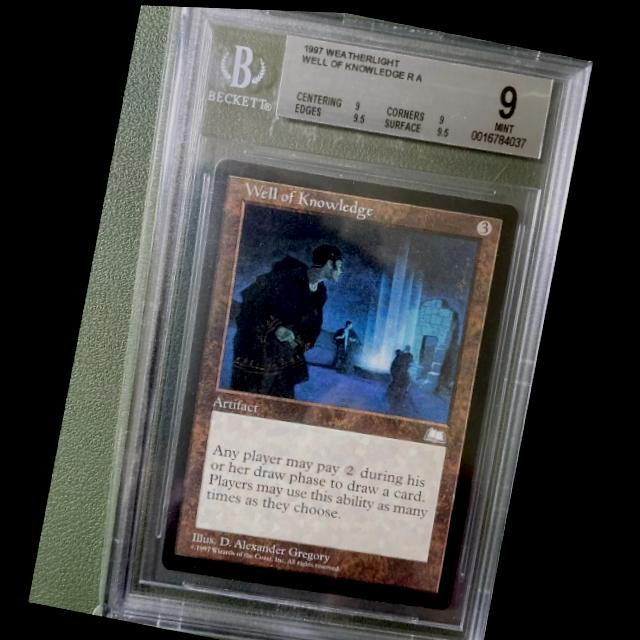bgs_label: (277, 33, 554, 155)
bgs_slab: (104, 5, 594, 640)
card: (163, 154, 523, 607)
